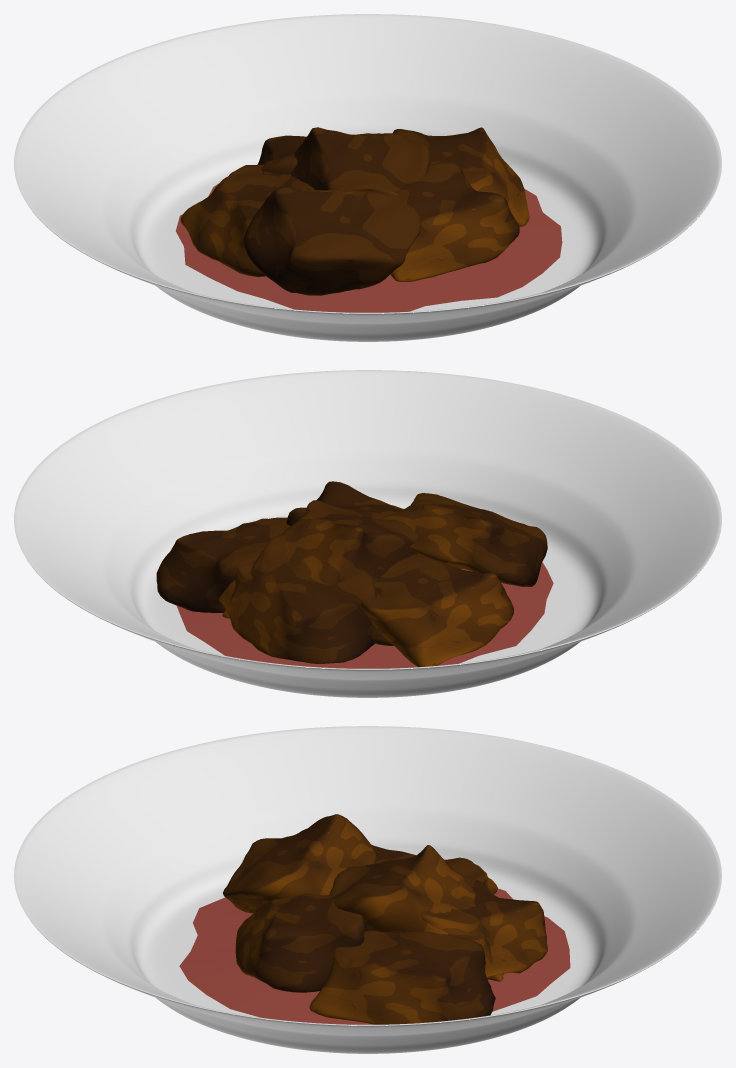
The model's file is rendang.fbx.
3 views of the same model, one above another, from view 1: azimuth 30°, elevation 25°; view 2: azimuth 150°, elevation 25°; view 3: azimuth 270°, elevation 25° (orthographic).
Visible parts, largest first — view 1: plate, rendang, oil; view 2: plate, rendang, oil; view 3: plate, rendang, oil.
Boxes of the visible parts, x1,y1,x2,y2 form: plate: [14, 14, 721, 341]; rendang: [180, 127, 529, 295]; oil: [176, 183, 562, 312]; plate: [14, 370, 721, 697]; rendang: [156, 481, 547, 667]; oil: [176, 562, 553, 668]; plate: [14, 726, 721, 1053]; rendang: [223, 814, 547, 1024]; oil: [179, 888, 570, 1024].
Size of the model in its own units: 80.97 by 12.94 by 80.97.
3 materials, 1 textured.
